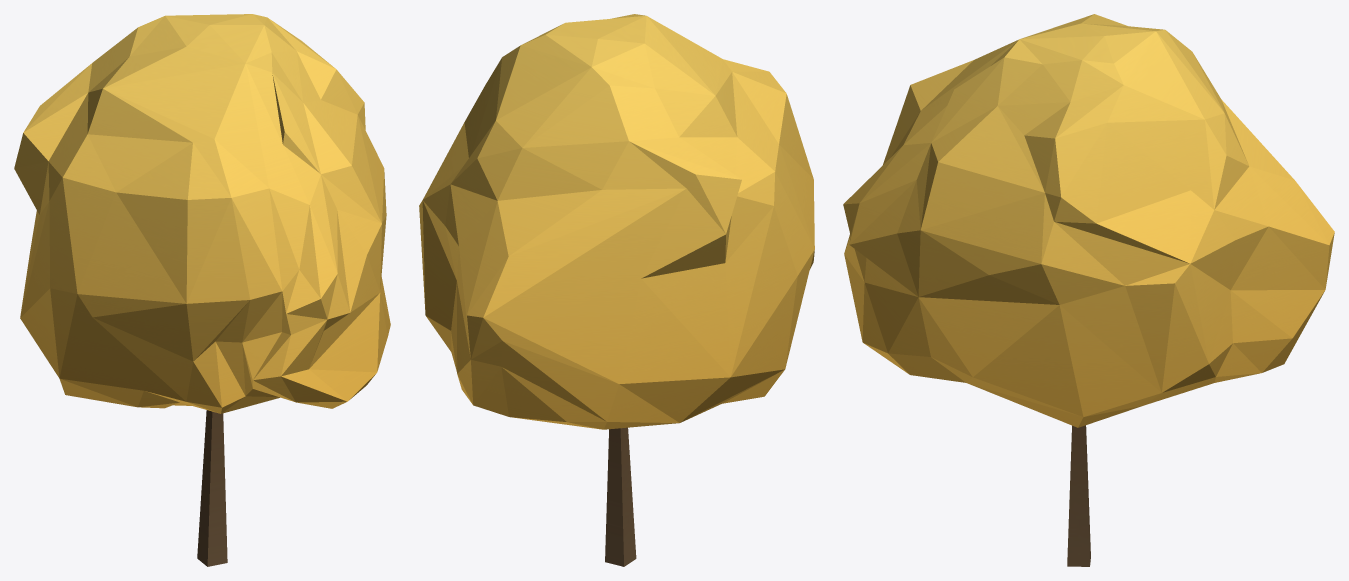
The model's file is extra-large-tree-1.glb.
3 renders of one model, left to right at view 1: azimuth 30°, elevation 25°; view 2: azimuth 150°, elevation 25°; view 3: azimuth 270°, elevation 25°, orthographic.
Visible parts, largest first — view 1: extra-large-tree-1; view 2: extra-large-tree-1; view 3: extra-large-tree-1.
Boxes of the visible parts, left/top/right/bottom form: extra-large-tree-1: left=14, top=14, right=390, bottom=566; extra-large-tree-1: left=419, top=14, right=814, bottom=566; extra-large-tree-1: left=843, top=14, right=1334, bottom=566.
Size of the model in its own units: 0.426 by 0.6623 by 0.556.
Materials: 1 (1 with a texture image).
